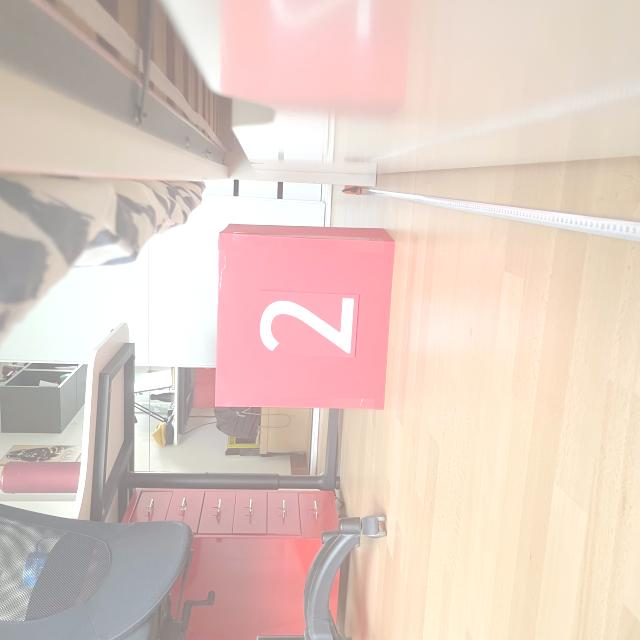box: (211, 219, 398, 411)
